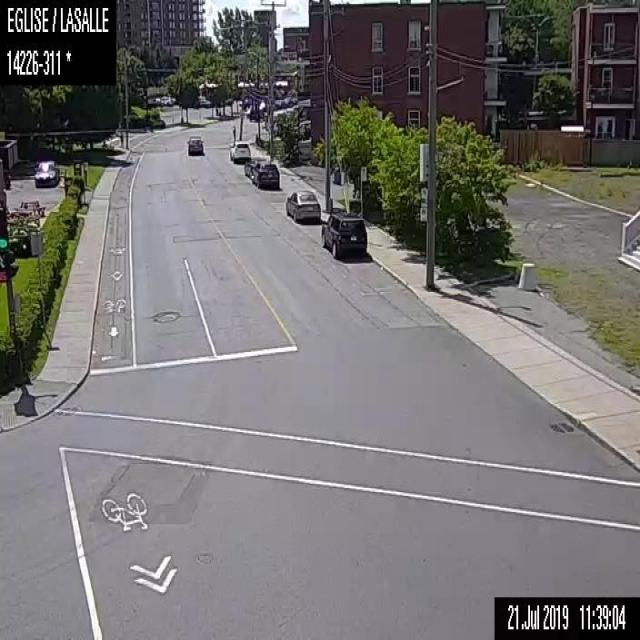pedestrian: (230, 124, 235, 143)
vehicle: (318, 208, 368, 257), (286, 188, 320, 222), (251, 161, 280, 189), (34, 159, 60, 188), (243, 156, 266, 178), (230, 140, 250, 163), (186, 133, 203, 155)
